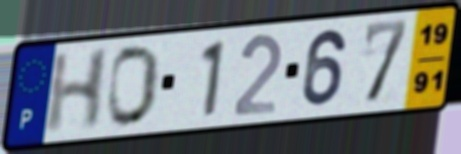1: (198, 37, 231, 120)
2: (231, 31, 285, 118)
6: (301, 27, 350, 110)
7: (361, 16, 412, 107)
H: (41, 45, 114, 138)
O: (104, 42, 163, 130)
